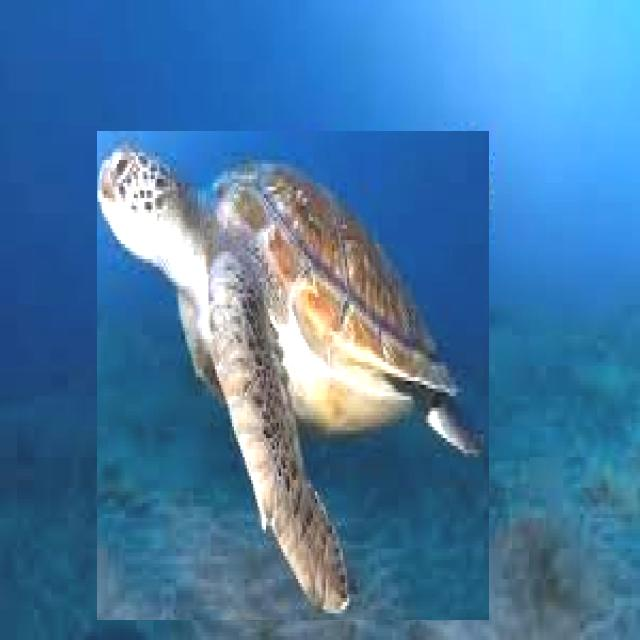Sea turtle: (97, 131, 489, 620)
